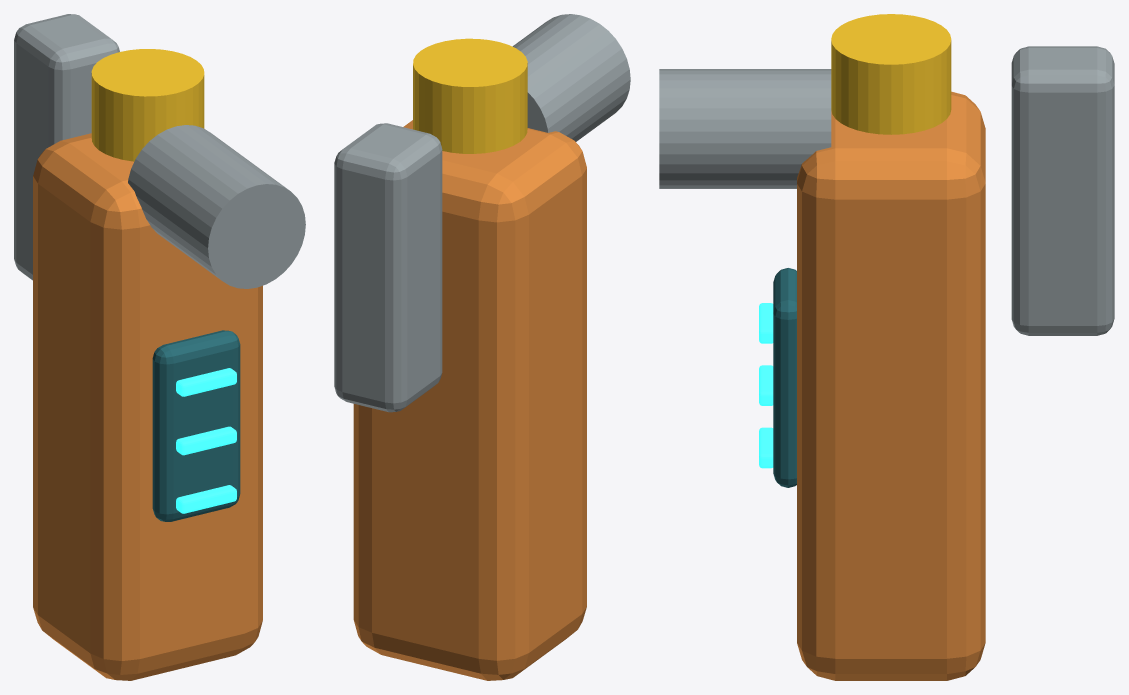
The model's file is medicinal_inhaler_variant_d.glb.
The picture shows the model from 3 angles, left to right: view 1: azimuth 30°, elevation 25°; view 2: azimuth 150°, elevation 25°; view 3: azimuth 270°, elevation 25°; orthographic projection. The views are drawn at different scales.
Visible parts, largest first — view 1: Inhaler body, Mouthpiece, Modular attachment rail, Dose window, Release button, Dose marking.001, Dose marking, Dose marking.002; view 2: Inhaler body, Modular attachment rail, Release button, Mouthpiece; view 3: Inhaler body, Modular attachment rail, Mouthpiece, Release button, Dose window.
Part boxes in pixels (x1,y1,x2,y2): Inhaler body: [33, 133, 262, 680]; Mouthpiece: [128, 125, 305, 288]; Modular attachment rail: [14, 14, 119, 280]; Dose window: [152, 330, 240, 521]; Release button: [91, 49, 204, 161]; Dose marking.001: [176, 426, 236, 455]; Dose marking: [176, 485, 236, 513]; Dose marking.002: [176, 368, 236, 396]; Inhaler body: [353, 120, 586, 680]; Modular attachment rail: [334, 123, 442, 412]; Release button: [413, 38, 527, 153]; Mouthpiece: [512, 14, 630, 141]; Inhaler body: [797, 91, 985, 680]; Modular attachment rail: [1011, 46, 1114, 335]; Mouthpiece: [659, 69, 831, 188]; Release button: [831, 14, 951, 134]; Dose window: [773, 268, 796, 487].
Size of what is drawn, in the model's own units: 0.24 by 0.785 by 0.53.
